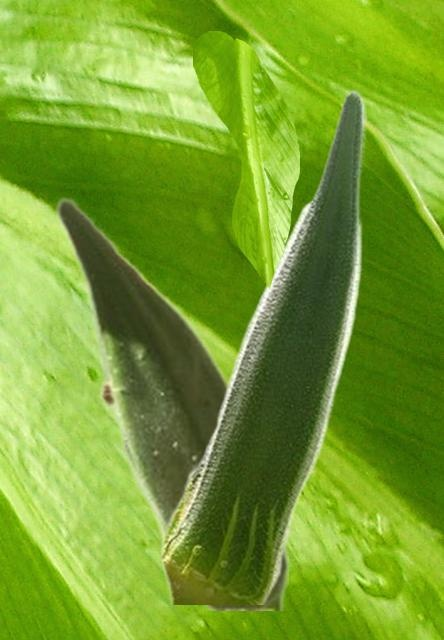okra: (159, 87, 365, 603), (54, 195, 287, 609)
